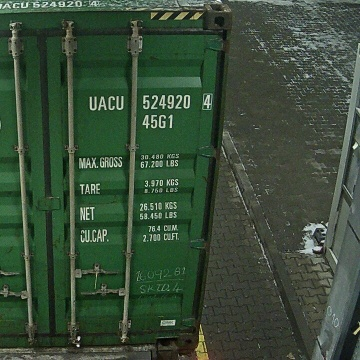serial_id: (89, 95, 211, 110)
